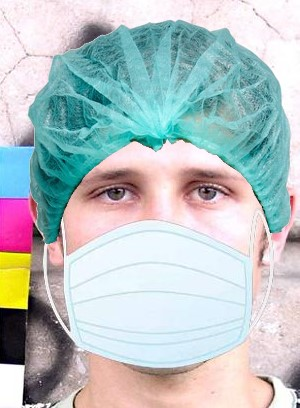with_mask_and_cap: (30, 20, 290, 365)
